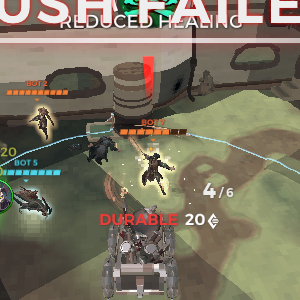model: (137, 148, 173, 198), (34, 105, 54, 143)
